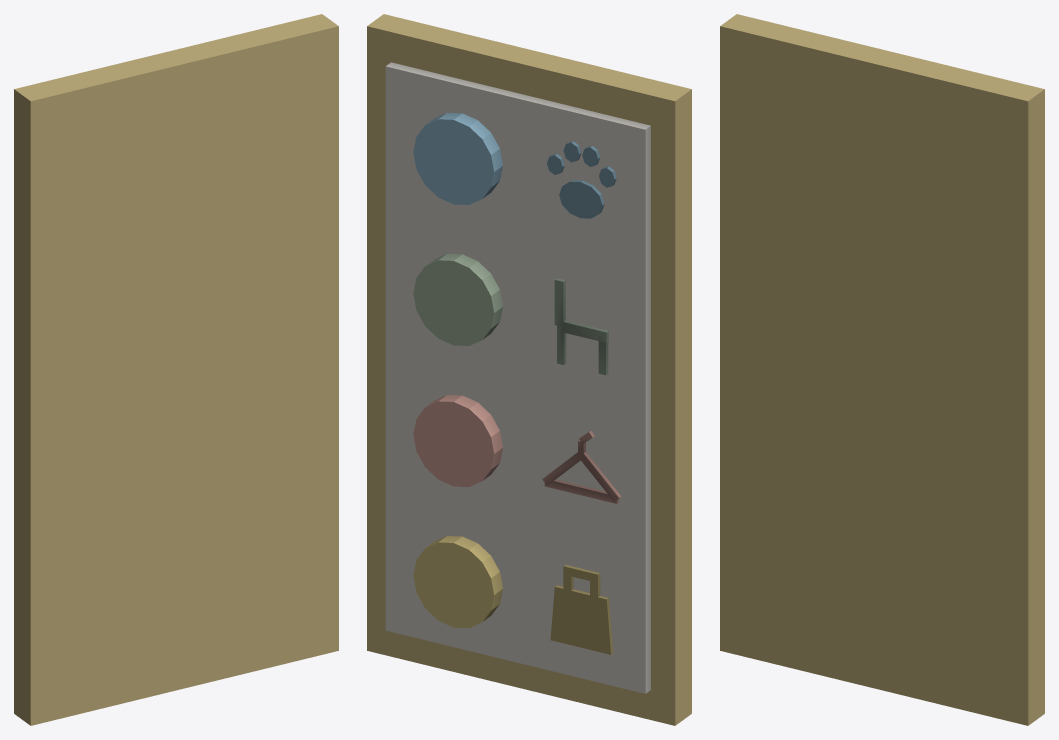
Rendered from mall_lift_panel.glb.
The picture shows the model from 3 angles, left to right: view 1: azimuth 30°, elevation 25°; view 2: azimuth 150°, elevation 25°; view 3: azimuth 330°, elevation 25°; orthographic projection.
Parts seen in each view (by area): view 1: mall.lift_panel; view 2: mall.lift_panel, btn1, btn3, btn2, btn4; view 3: mall.lift_panel.
Part boxes in pixels (bbox=[...]): mall.lift_panel: bbox=[14, 14, 338, 725]; mall.lift_panel: bbox=[367, 14, 691, 725]; btn1: bbox=[413, 536, 502, 628]; btn3: bbox=[413, 254, 502, 345]; btn2: bbox=[413, 395, 502, 486]; btn4: bbox=[413, 112, 502, 204]; mall.lift_panel: bbox=[720, 14, 1044, 725].
Size of the model in its own units: 0.32 by 0.62 by 0.056.
